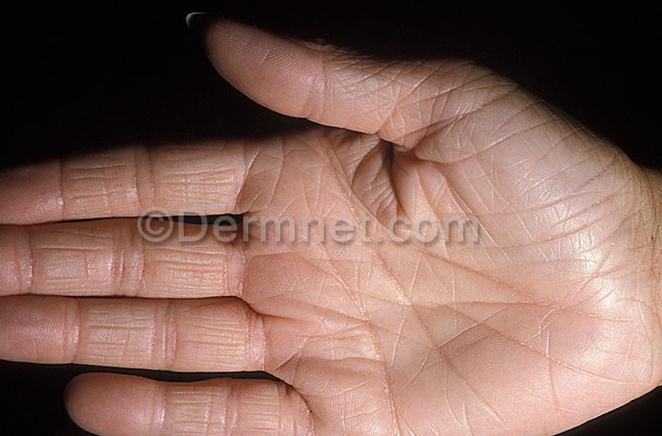liquenificacion 1: (55, 47, 631, 434)
